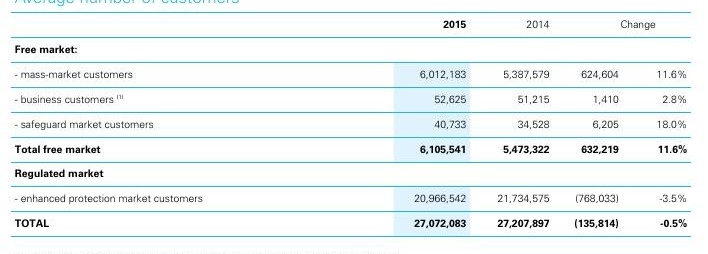table: (0, 0, 708, 254)
